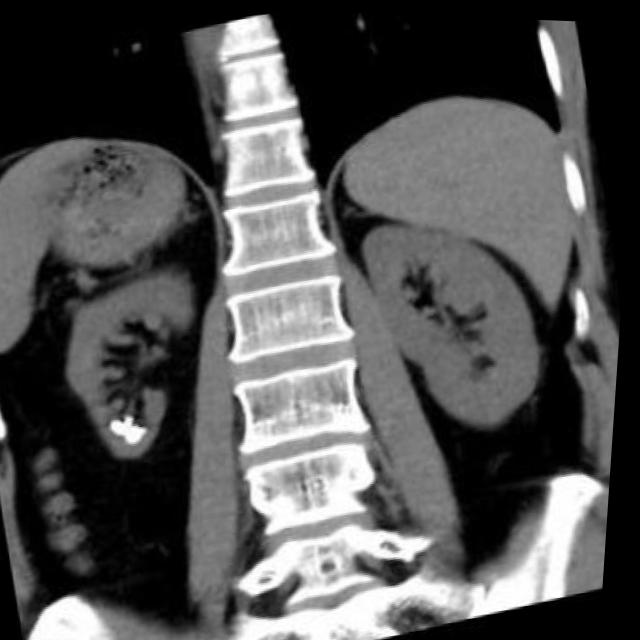Tas_Var: (125, 419, 157, 450), (110, 414, 142, 439), (129, 411, 143, 423)
